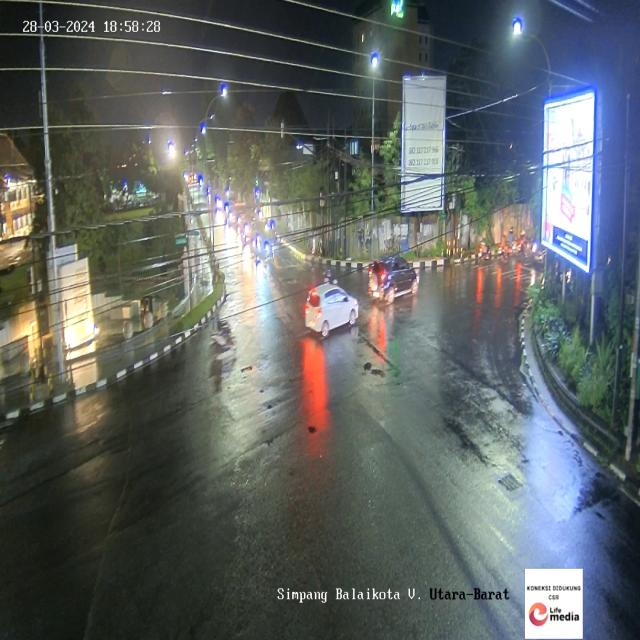car: (302, 283, 359, 340), (368, 256, 418, 299), (532, 235, 550, 266)
motorcycle: (476, 234, 491, 266), (498, 229, 510, 265), (516, 229, 528, 260), (507, 226, 515, 253)
